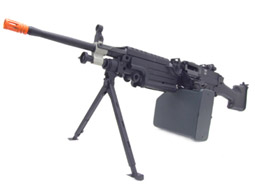rifle: (6, 11, 251, 177)
